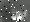person: (19, 8, 27, 21), (12, 10, 17, 20)
